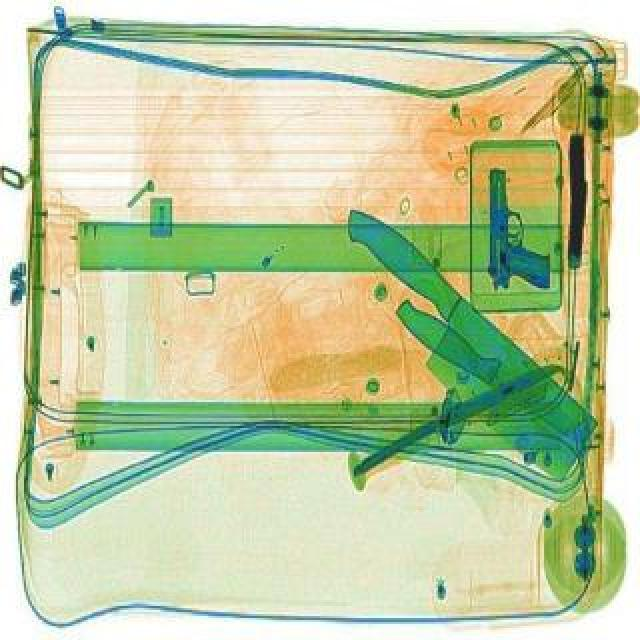gun: (488, 170, 552, 294), (568, 138, 588, 270)
knife: (302, 202, 620, 490), (388, 298, 610, 466), (346, 360, 566, 482)
